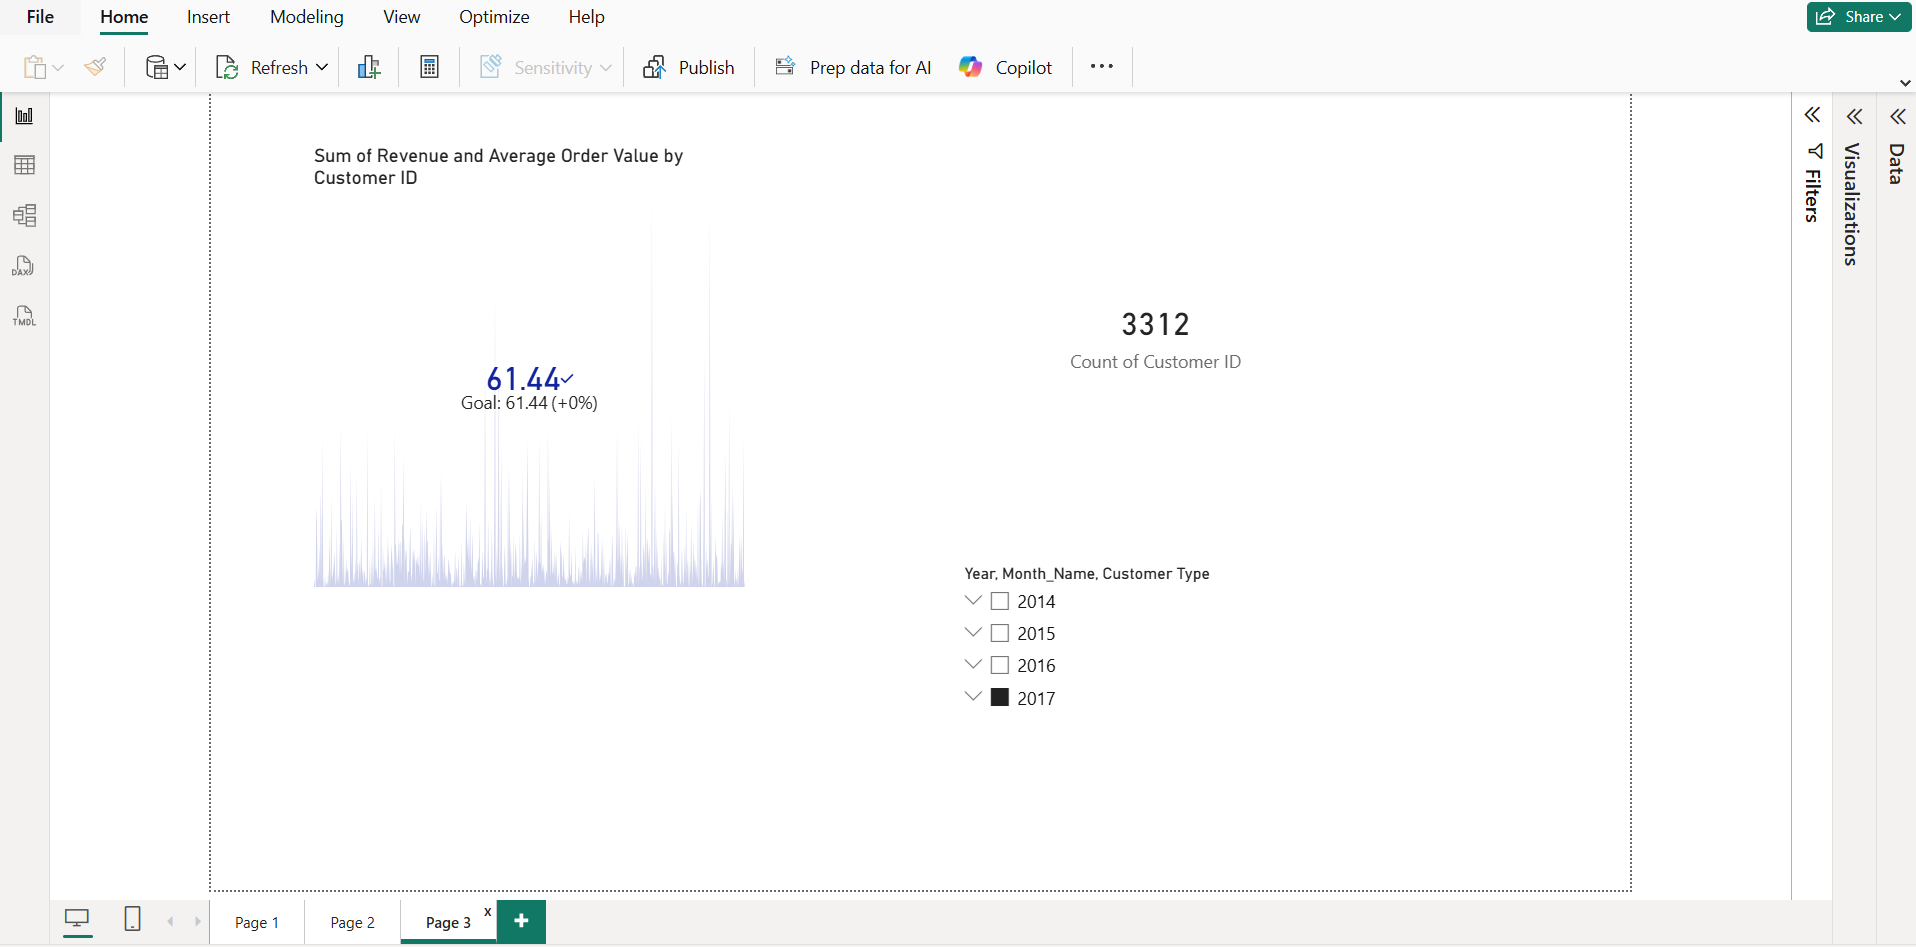

Layout of this report page (visuals, bound fields, positions):
{"tool":"powerbi","page":{"name":"Page 3","canvas":[1280,720],"ordinal":2},"visuals":[{"type":"kpi","fields":{"Goal":["cleaned_sales_data.Average Order Value"],"Indicator":["Sum(cleaned_sales_data.Revenue)"],"TrendLine":["cleaned_sales_data.Customer ID"]},"box":[87.7,47.6,398.5,404.5],"z":0},{"type":"card","fields":{"Values":["CountNonNull(cleaned_sales_data.Customer ID)"]},"box":[666.2,32.7,371.7,371.7],"z":1},{"type":"slicer","fields":{"Values":["cleaned_sales_data.Year","cleaned_sales_data.Month_Name","cleaned_sales_data.Customer Type"]},"box":[666.2,420.8,434.2,298.9],"z":2}]}

Visuals, with their boxes on the page's 1280x720 design canvas (x1, y1, x2, y2). These are canvas units, not pixel positions in the 1916x947 screenshot, which may show the page scaled, cropped or inside an application window:
kpi - cleaned_sales_data.Average Order Value x Sum(cleaned_sales_data.Revenue): [x1=88, y1=48, x2=486, y2=452]
card - CountNonNull(cleaned_sales_data.Customer ID): [x1=666, y1=33, x2=1038, y2=404]
slicer - cleaned_sales_data.Year x cleaned_sales_data.Month_Name: [x1=666, y1=421, x2=1100, y2=720]
